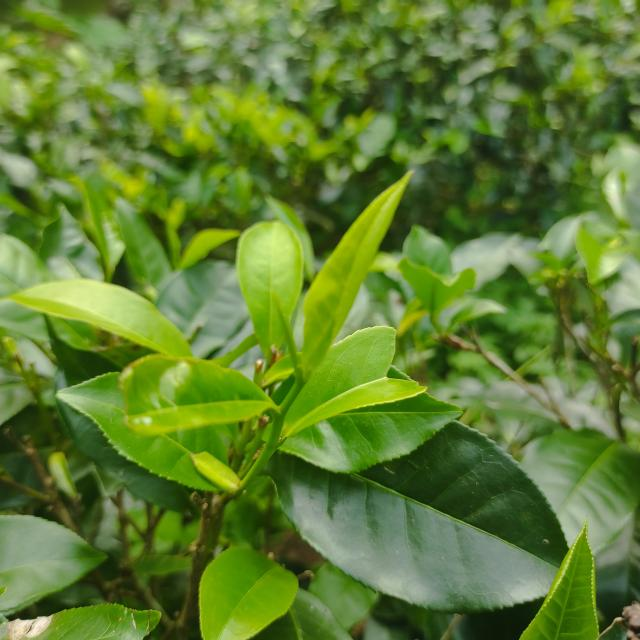unopened_leaf: (264, 280, 308, 388)
